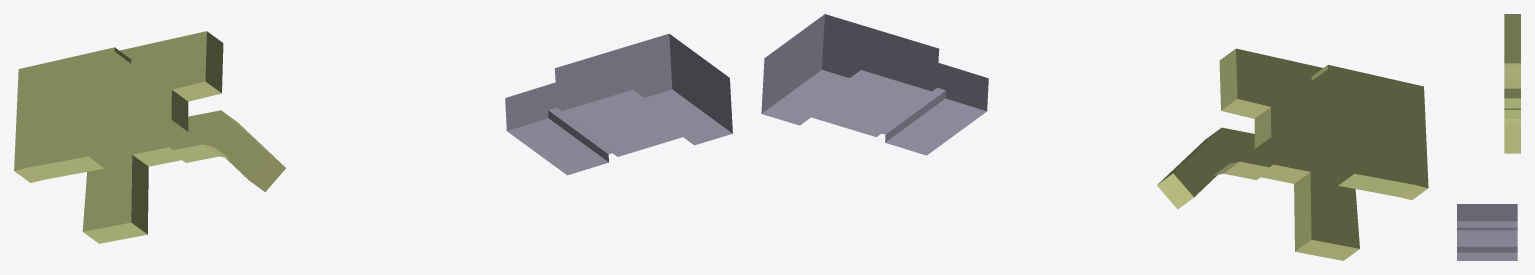
The picture shows the model from 3 angles, left to right: view 1: azimuth 30°, elevation 25°; view 2: azimuth 150°, elevation 25°; view 3: azimuth 270°, elevation 25°; orthographic projection. The views are drawn at different scales.
Parts seen in each view (by area): view 1: 0_0_3_1_2_0_2; view 2: 0_0_3_1_2_0_2; view 3: 0_0_3_1_2_0_2.
Boxes of the visible parts, box(x1,y1,x2,y2) form: 0_0_3_1_2_0_2: box(14, 31, 732, 243); 0_0_3_1_2_0_2: box(761, 14, 1428, 260); 0_0_3_1_2_0_2: box(1457, 14, 1520, 260).
Bounding box in the file's own units: 206 × 54.4 × 34.8.
